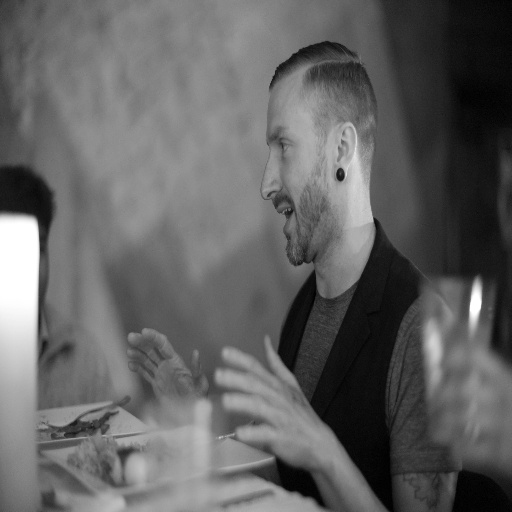hand: (214, 332, 333, 474), (442, 342, 511, 483), (126, 327, 210, 421)
